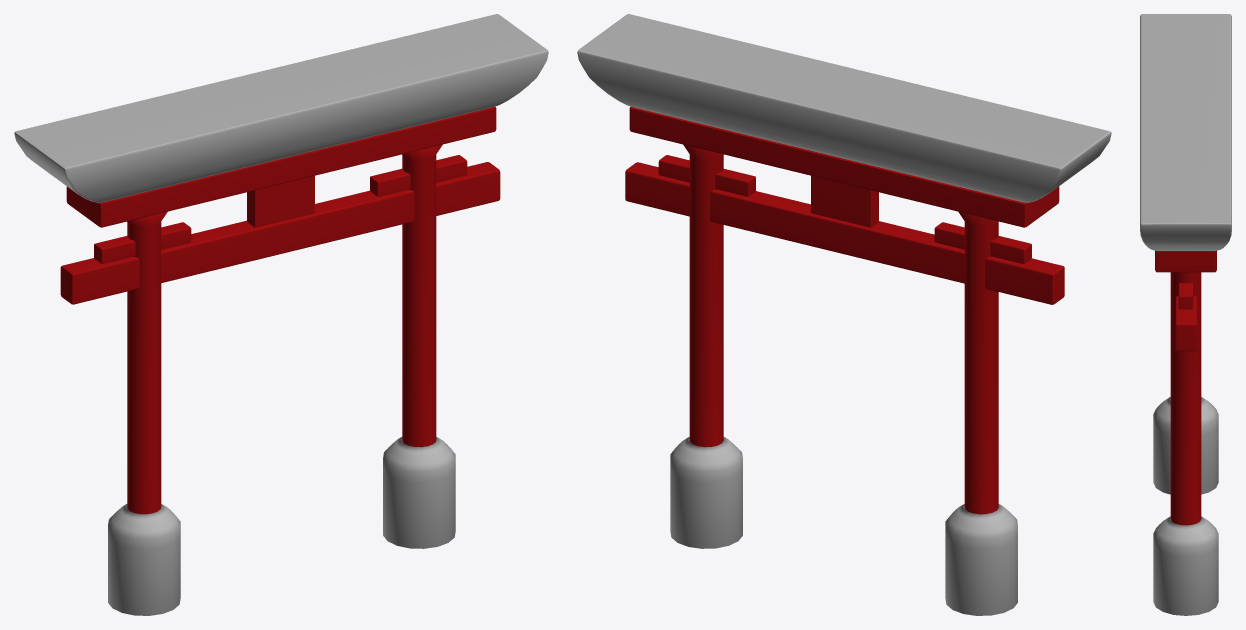
The model's file is tori_gate.fbx.
3 views of the same model, side by side, from view 1: azimuth 30°, elevation 25°; view 2: azimuth 150°, elevation 25°; view 3: azimuth 270°, elevation 25° (orthographic). The views are drawn at different scales.
Parts seen in each view (by area): view 1: pCube10; view 2: pCube10; view 3: pCube10.
Part boxes in pixels (x1,y1,x2,y2): pCube10: (14, 14, 548, 615); pCube10: (577, 14, 1111, 615); pCube10: (1140, 14, 1231, 615).
Bounding box in the file's own units: 649 × 610 × 120.
